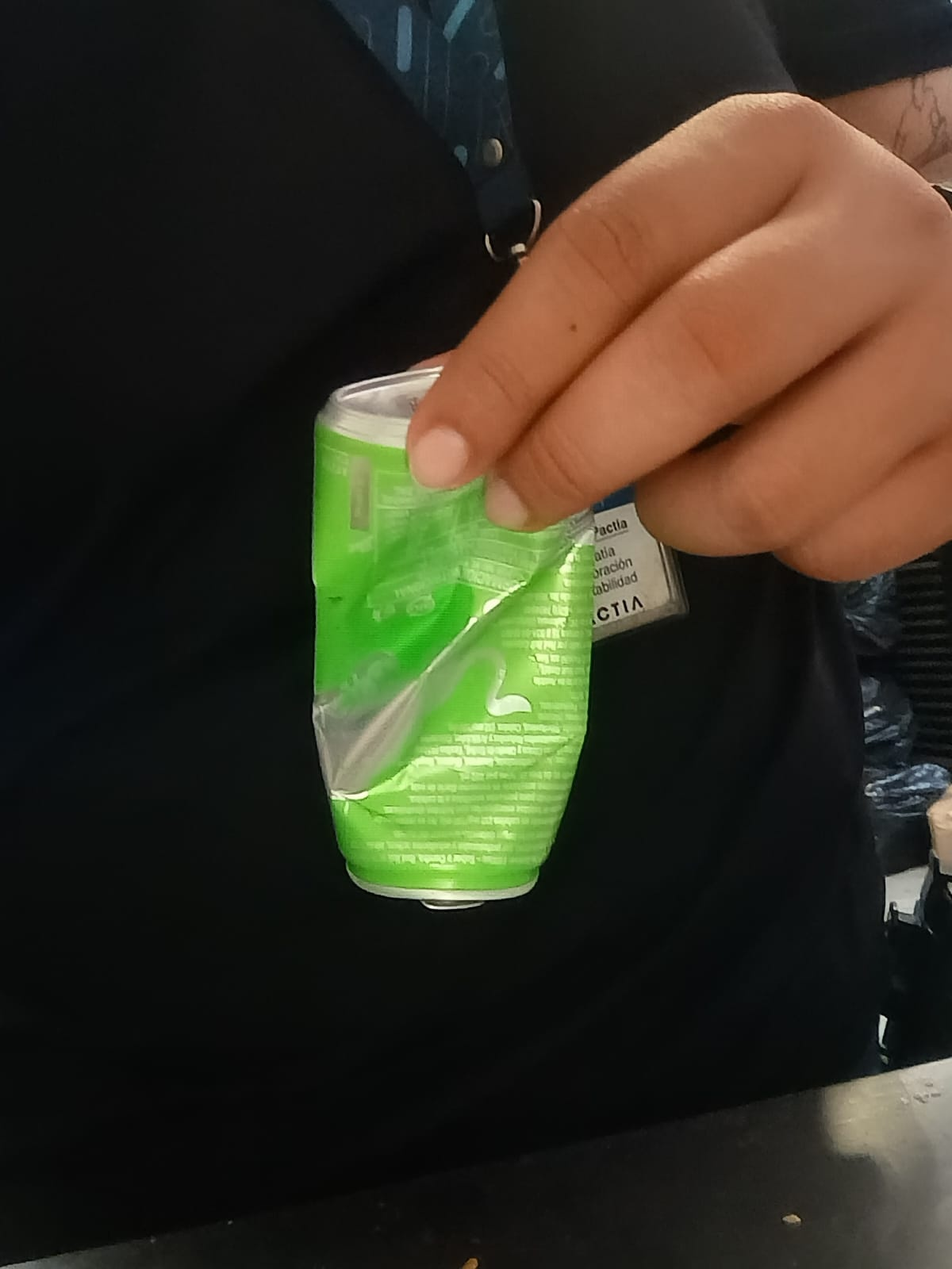Metal: (315, 370, 595, 911)
